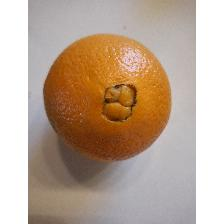Orange: (44, 28, 172, 164)
